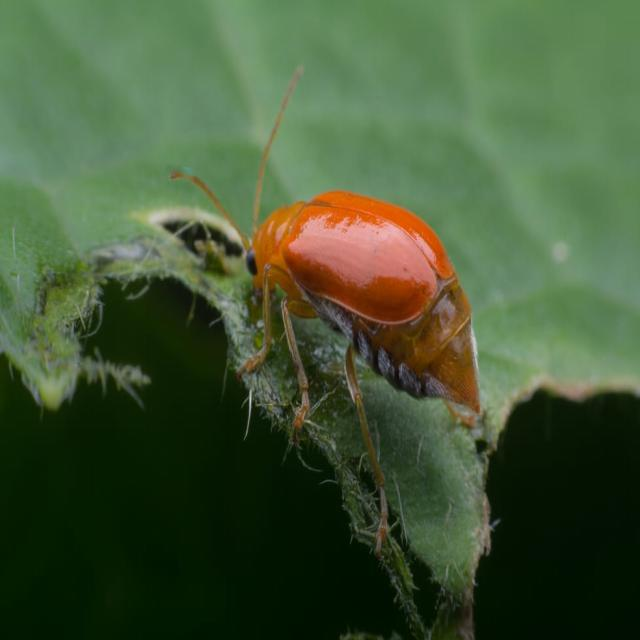Pumpkin Beetle: (162, 50, 496, 554)
